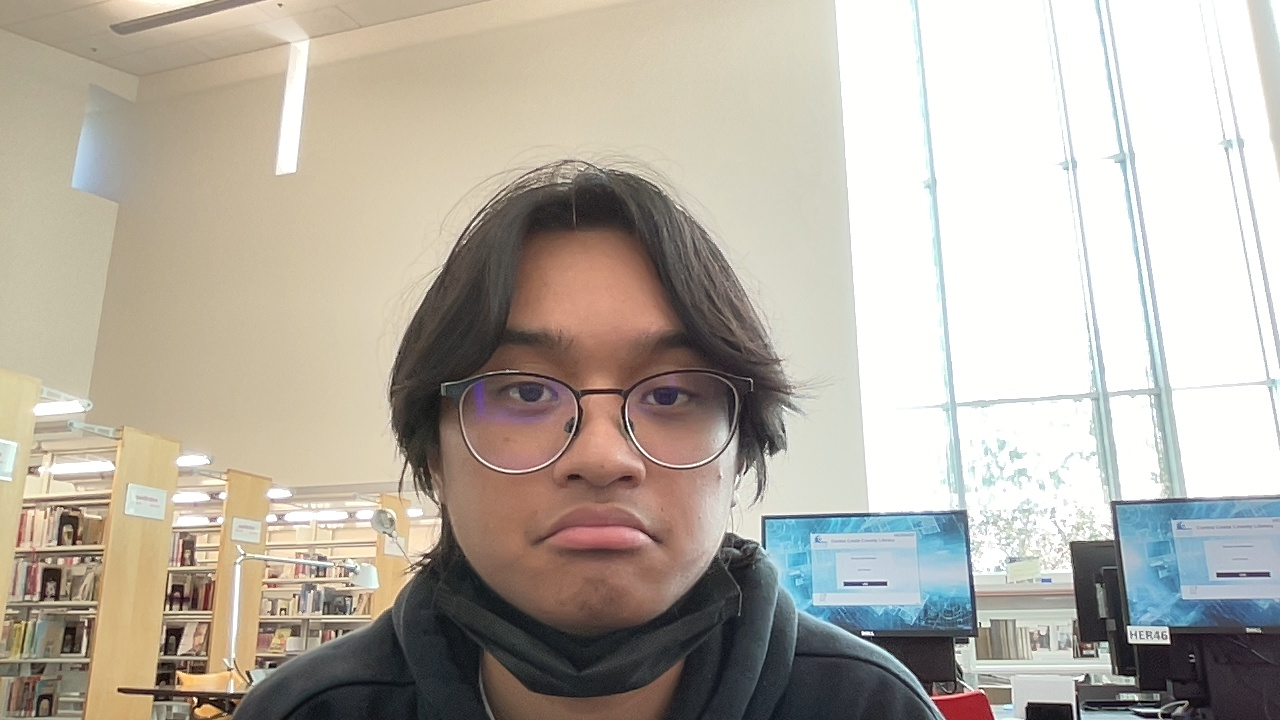sad: (422, 218, 747, 638)
